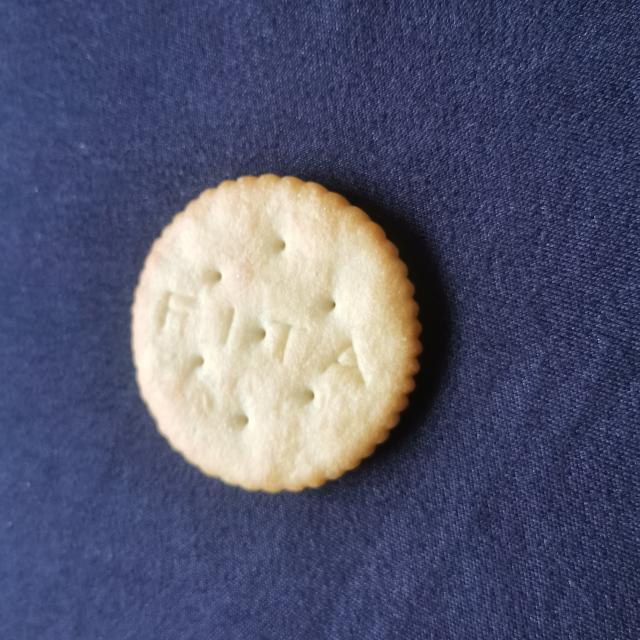Intact: (120, 164, 433, 508)
